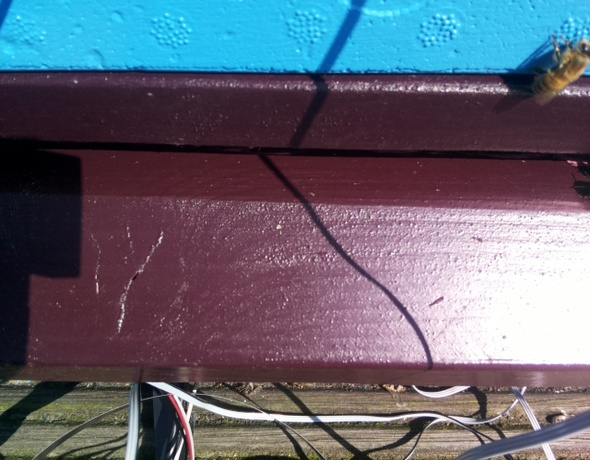no_pollen: (528, 37, 590, 103)
